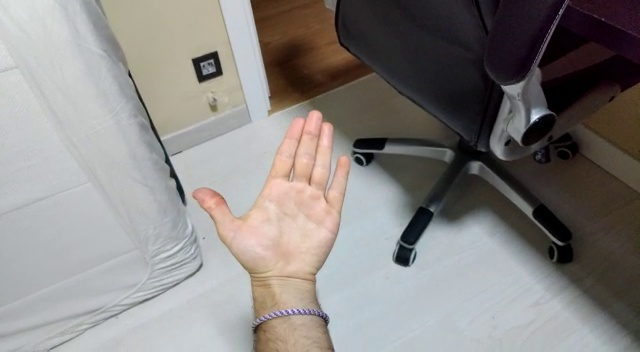Palm: (190, 109, 352, 284)
